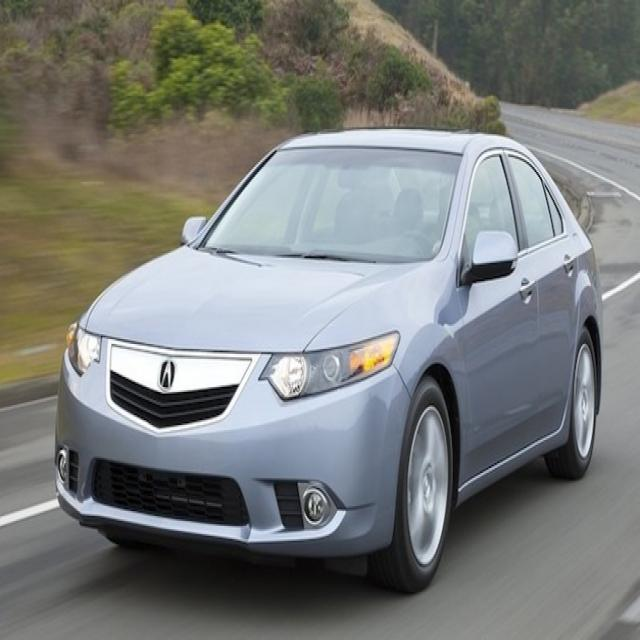car: (49, 132, 608, 586)
